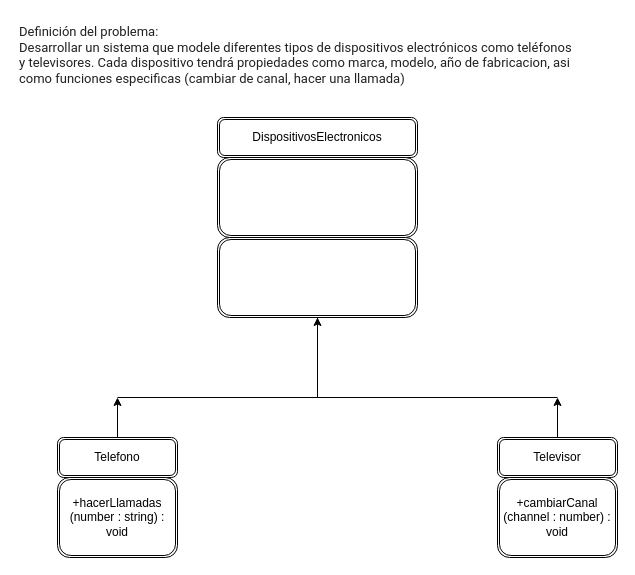
This 635x575 diagram has some shape labels left out. Here are the shapes that lost their labels. From the top down, the centre of each, then its label:
At (317,197): "- marca : string - modelo : string - añoDeFabricacion : number".
At (317,277): "+obtenerMarca () : string +obtenerModelo () : string +obtenerAño () : number".
